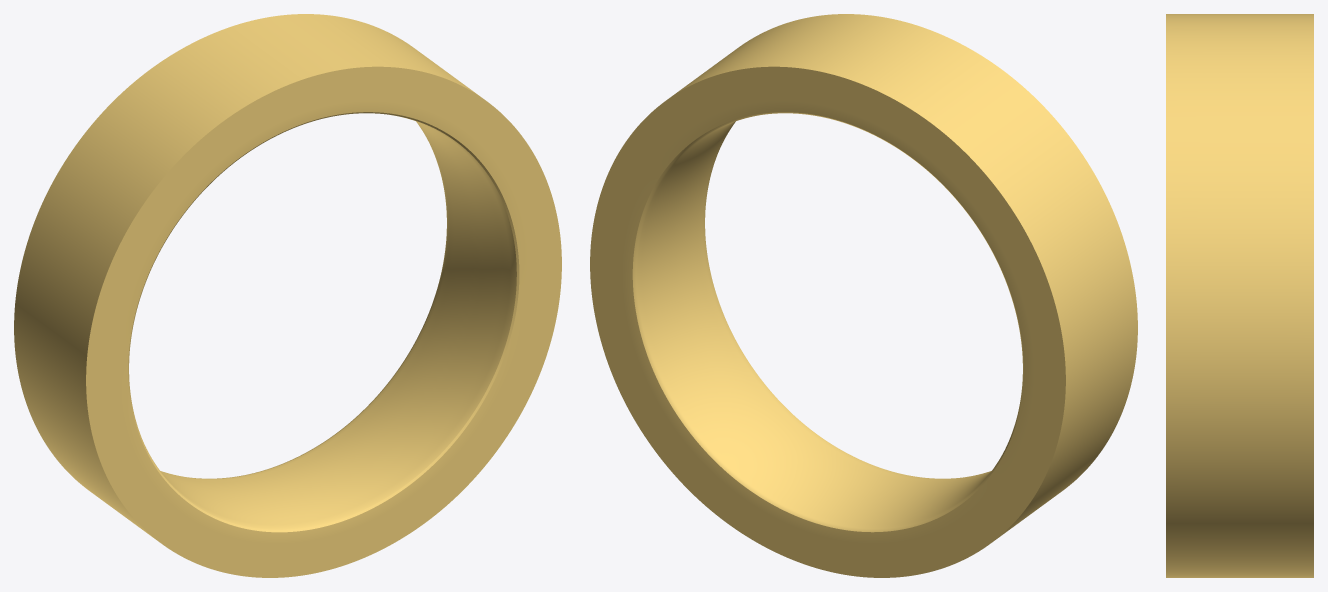
The model's file is WilliamYGband_blender.glb.
3 views of the same model, side by side, from view 1: azimuth 30°, elevation 25°; view 2: azimuth 150°, elevation 25°; view 3: azimuth 270°, elevation 25° (orthographic). The views are drawn at different scales.
Parts seen in each view (by area): view 1: Ladies Band YG for 3d model; view 2: Ladies Band YG for 3d model; view 3: Ladies Band YG for 3d model.
Part boxes in pixels (x1=…): Ladies Band YG for 3d model: x1=14, y1=14, x2=561, y2=577; Ladies Band YG for 3d model: x1=590, y1=14, x2=1137, y2=577; Ladies Band YG for 3d model: x1=1166, y1=14, x2=1313, y2=577.
Bounding box in the file's own units: 19.06 × 19.06 × 5.
